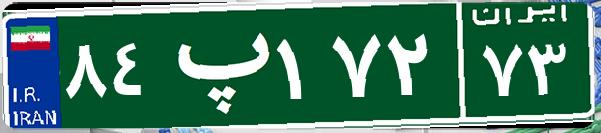1: (273, 28, 330, 110)
2: (385, 28, 445, 110)
3: (525, 38, 570, 115)
4: (110, 28, 158, 105)
7: (330, 28, 385, 110), (475, 38, 525, 113)
8: (57, 26, 110, 107)
پ: (158, 15, 273, 115)
